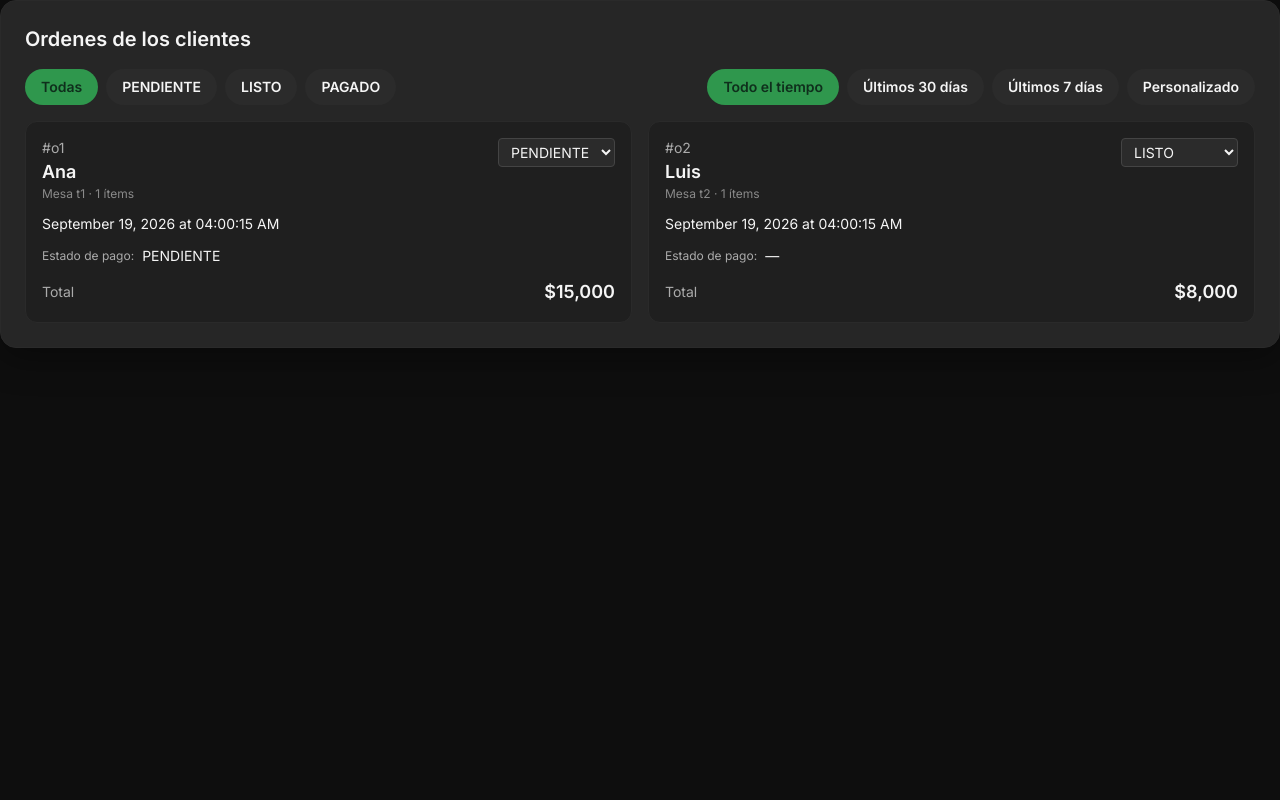
it: RecentOrders (dashboard) › error 409 al cambiar estado: avisa mesa ocupada y abre prompt
Expected: the heading "Luis" is shown, 665,161 -> 701,182
Select "PENDIENTE" in the dropdown in the row of "Luis" at (1180, 152), box 1121,138 -> 1238,167
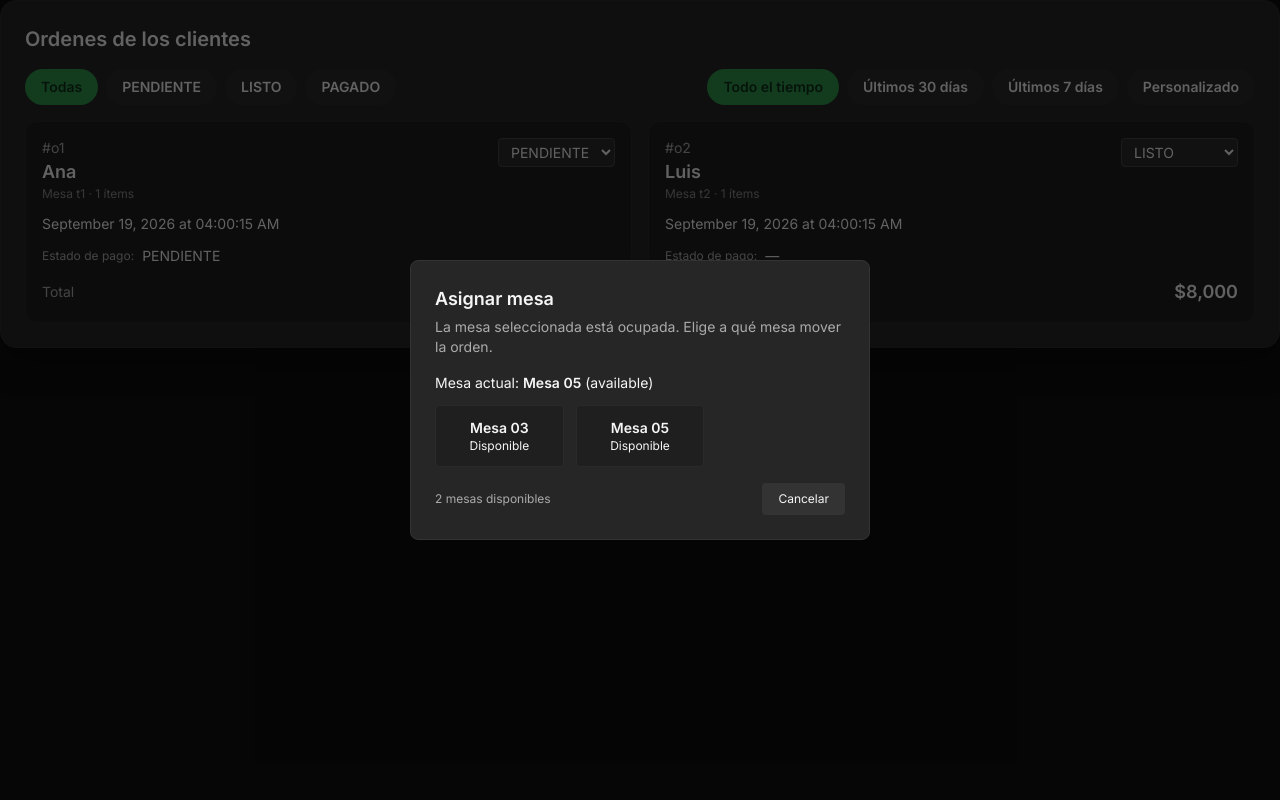
Expected: the text "La mesa seleccionada está ocupada" is shown, 435,318 -> 841,355
Expected: the text "Mesa 05" next to "Mesa actual:" is shown, 523,374 -> 581,391
Click the button "Cancelar" at (804, 499), box 762,483 -> 845,515
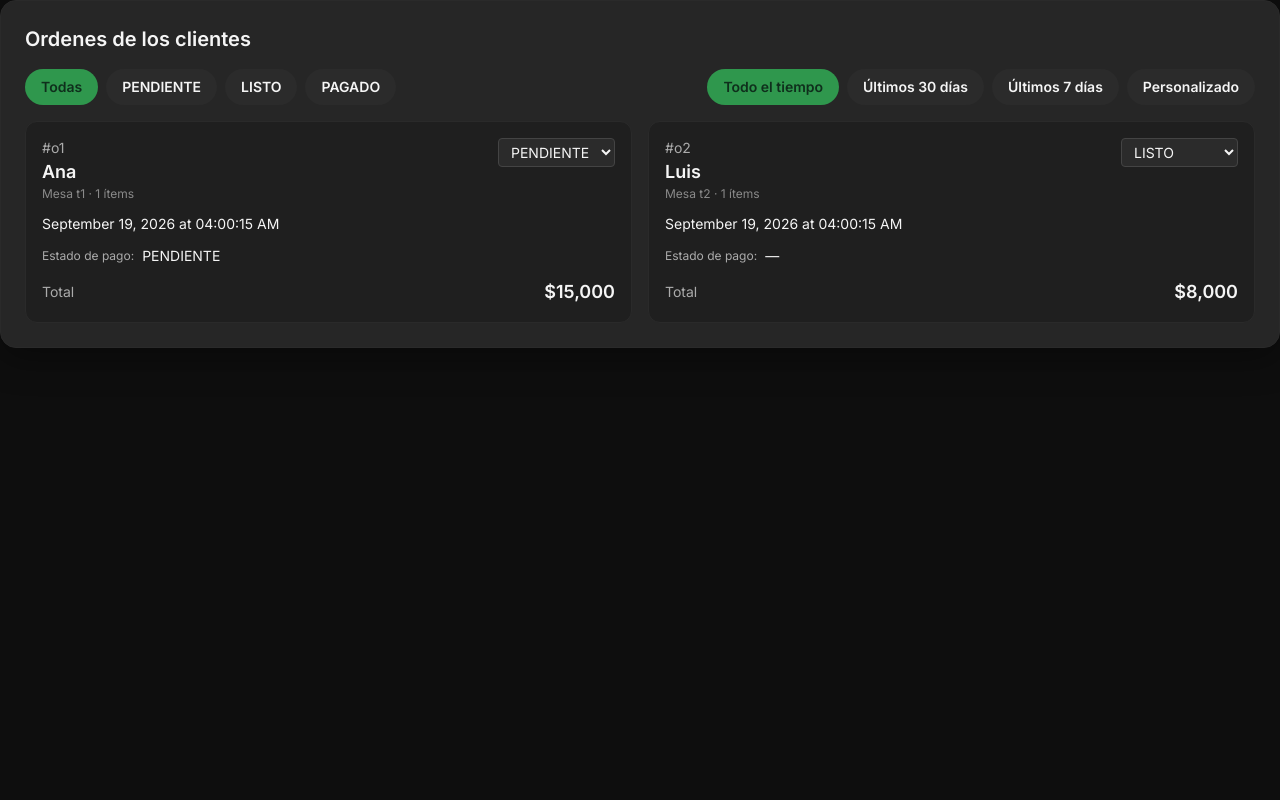
Expected: the heading "Asignar mesa" is gone
